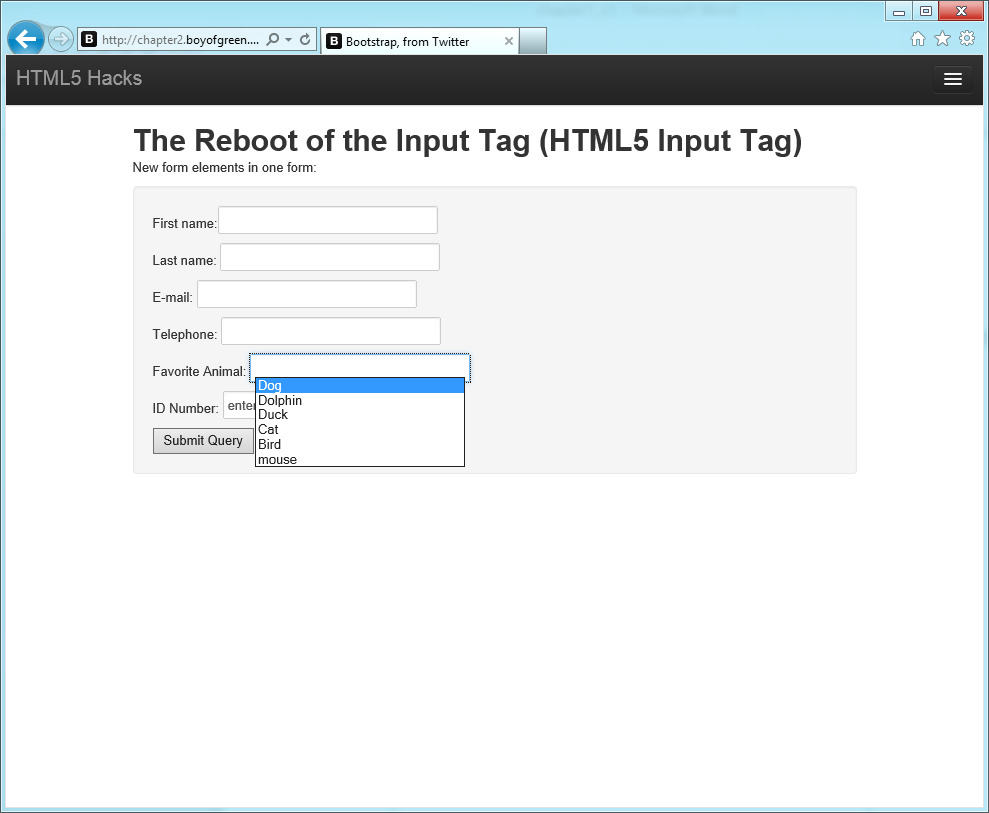_form_: (109, 109, 525, 525)
button: (151, 425, 255, 455)
field: (215, 241, 442, 273), (213, 204, 438, 235), (216, 315, 441, 346), (193, 279, 416, 307)
